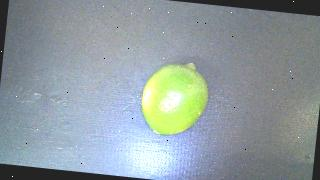EXPORTACION: (138, 58, 211, 139)
